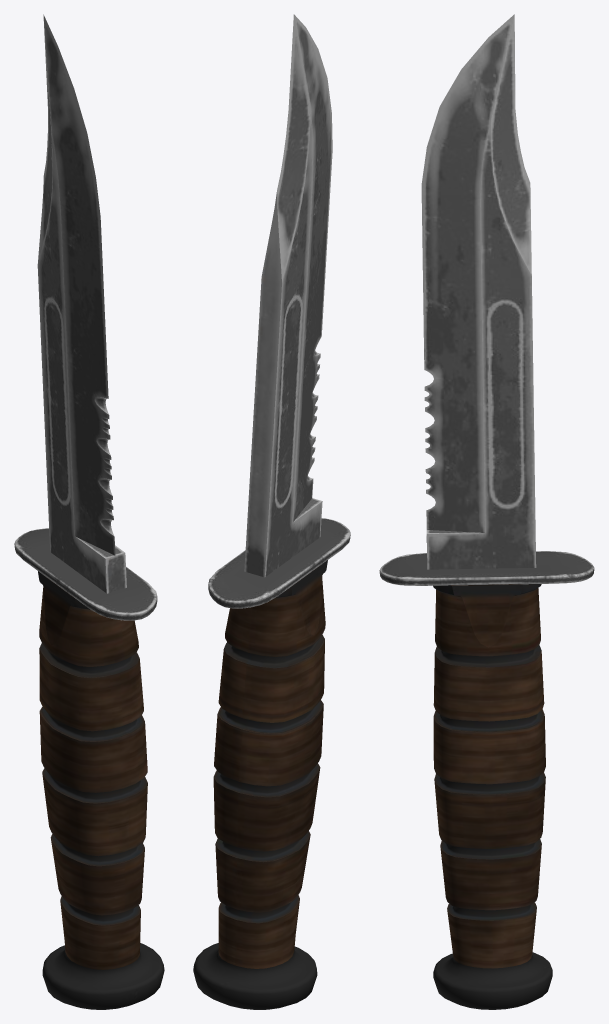
File: weapon_melee_knife.glb
The picture shows the model from 3 angles, left to right: view 1: azimuth 30°, elevation 25°; view 2: azimuth 150°, elevation 25°; view 3: azimuth 270°, elevation 25°; orthographic projection. The views are drawn at different scales.
Parts seen in each view (by area): view 1: MeleeKnife; view 2: MeleeKnife; view 3: MeleeKnife.
Part boxes in pixels (x1=…): MeleeKnife: x1=14, y1=14, x2=164, y2=1009; MeleeKnife: x1=193, y1=14, x2=350, y2=1009; MeleeKnife: x1=379, y1=14, x2=594, y2=1009.
Size of the model in its own units: 0.0355 by 0.31 by 0.063.
Materials: 1 (1 with a texture image).
